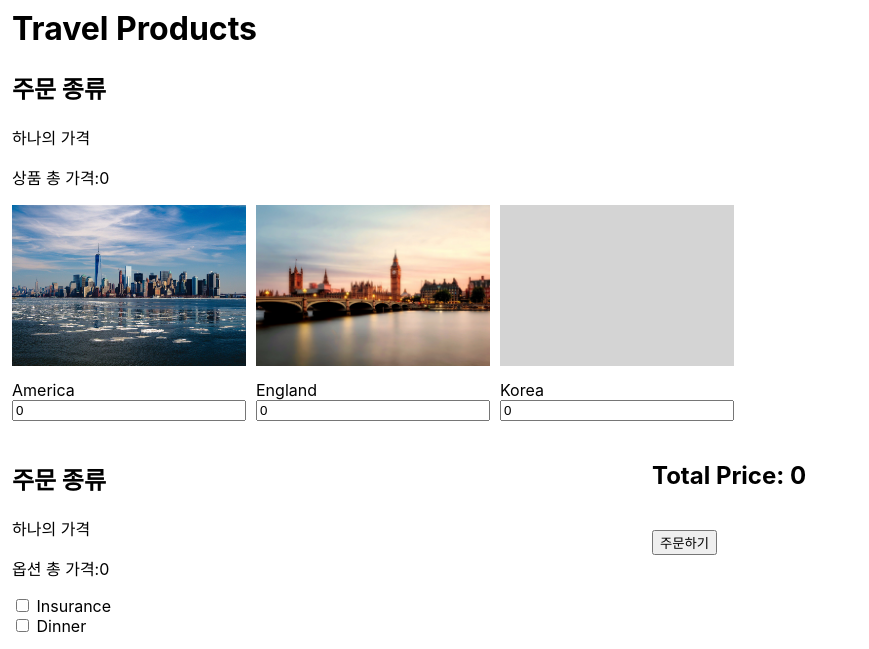
Test: 상품 가격, 옵션 가격을 더한 촉 가격 구하기 › 모든 상품이 제거되었을 경우 총 가격 테스트
Click the checkbox labelled "Insurance": (22, 605) [16,599,29,612]
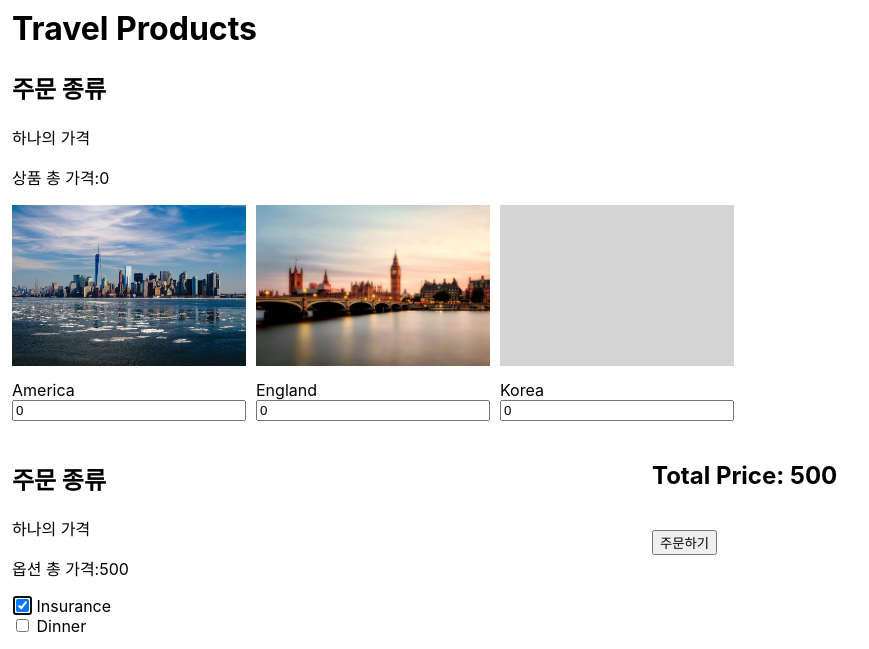
Replace the text in the number field labelled "America" with "3": (129, 410) [12,400,246,421]
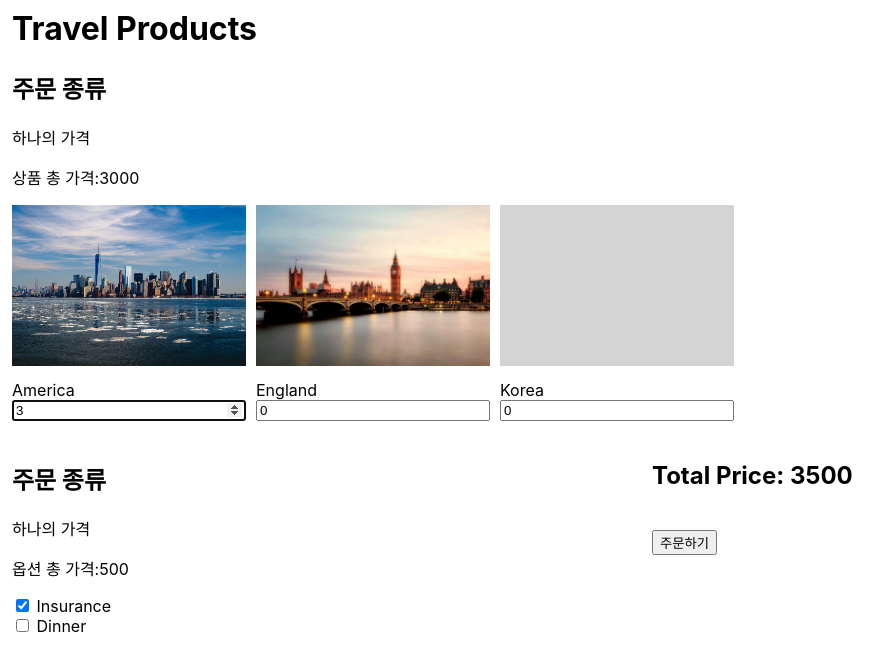
Replace the text in the number field labelled "America" with "1": (129, 410) [12,400,246,421]
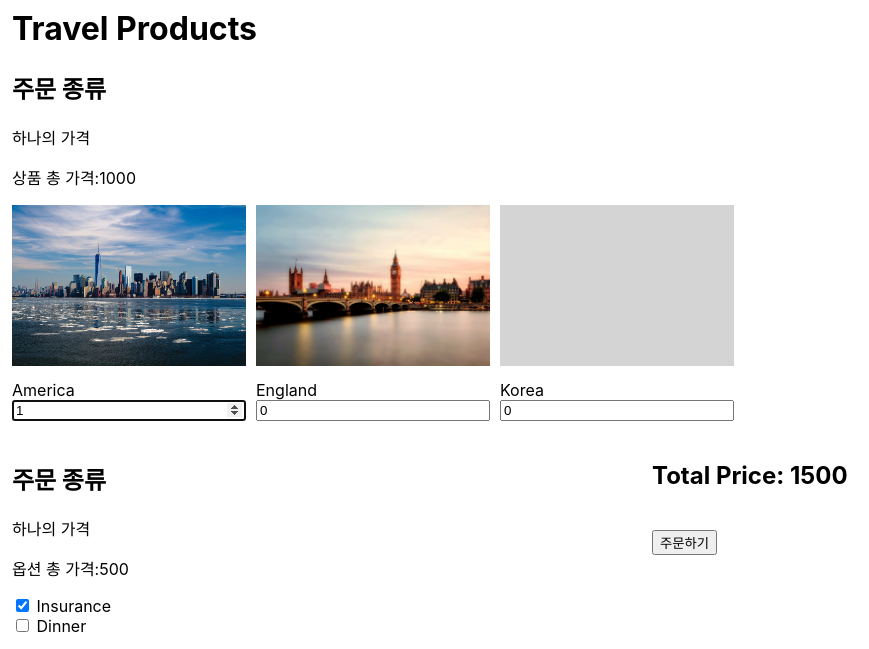
Expected: the heading "Total Price: 1500" is shown, [652,461,848,490]
